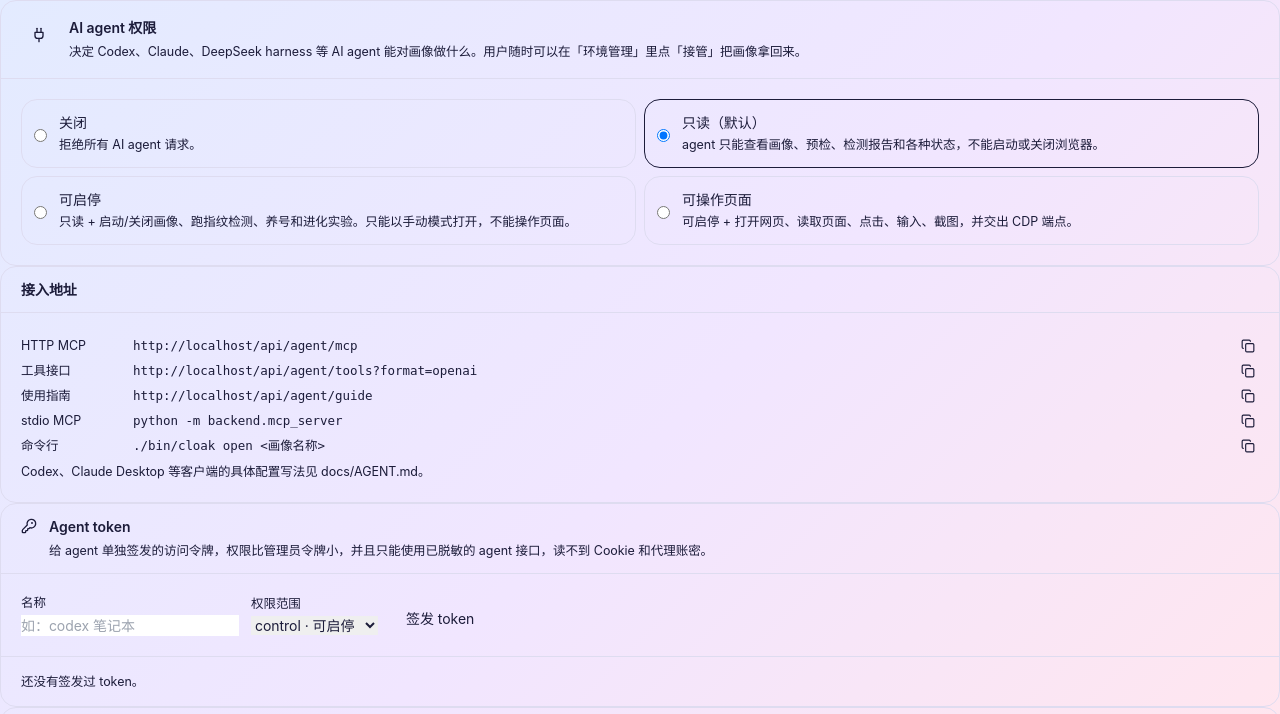
it: AgentAccessPanel › shows the current mode and saves a change
expect the radio button labelled "只读（默认） agent 只能查看画像、预检、检测报告和各种状态，不能启动或关闭浏览器。" is checked: met, box [657,116,670,155]
Click the radio button labelled "可启停 只读 + 启动/关闭画像、跑指纹检测、养号和进化实验。只能以手动模式打开，不能操作页面。". click: (40, 212)
box: [34,193,47,232]
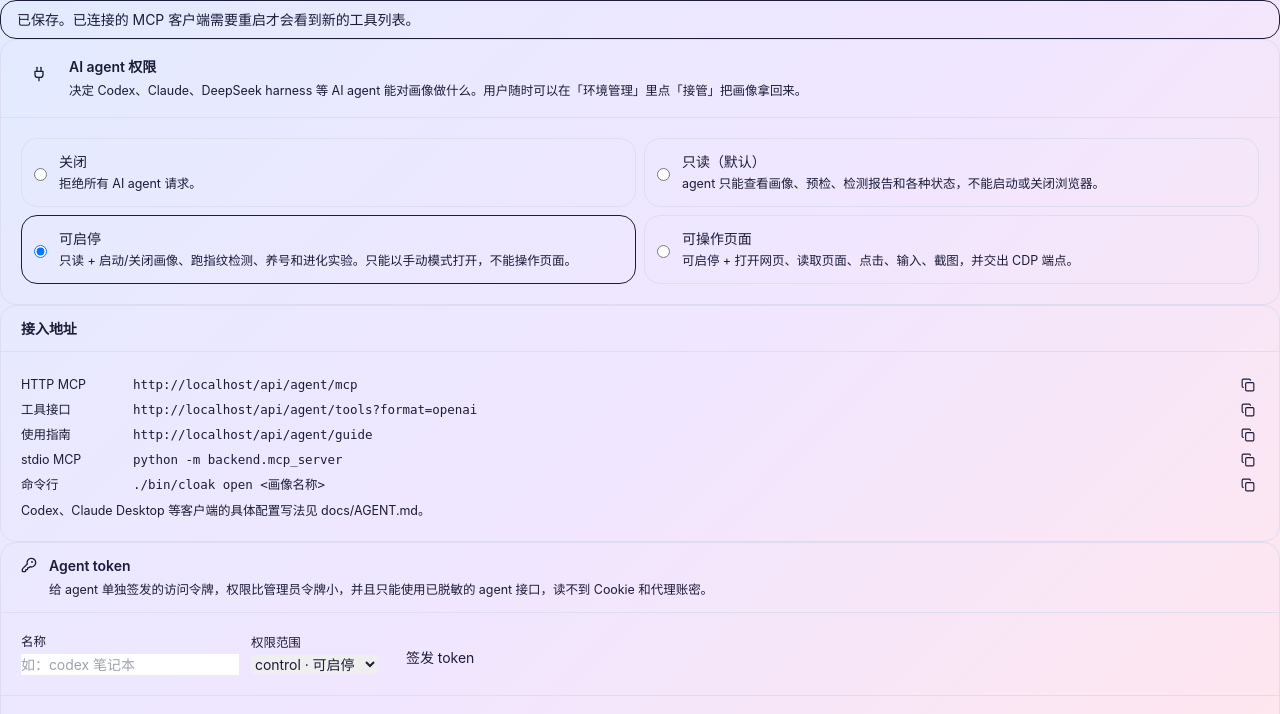
expect the text "已保存。已连接的 MCP 客户端需要重启才会看到新的工具列表。" is shown: met, box [0,0,1279,39]
